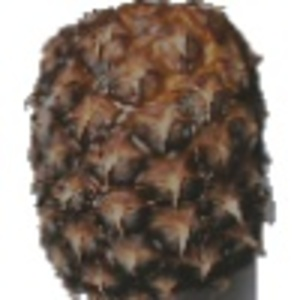abacaxi: (22, 1, 278, 298)
